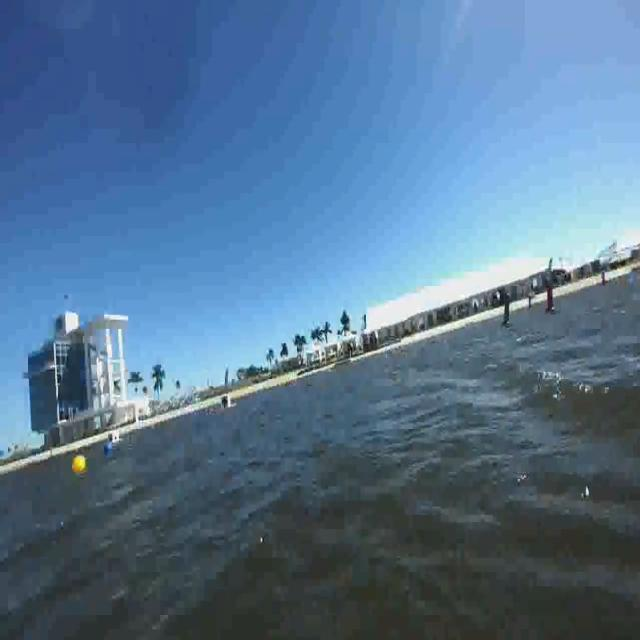blue-buoy: (105, 442, 114, 458)
green-column-buoy: (502, 294, 512, 329)
red-column-buoy: (545, 279, 555, 312)
yellow-buoy: (73, 454, 87, 475)
